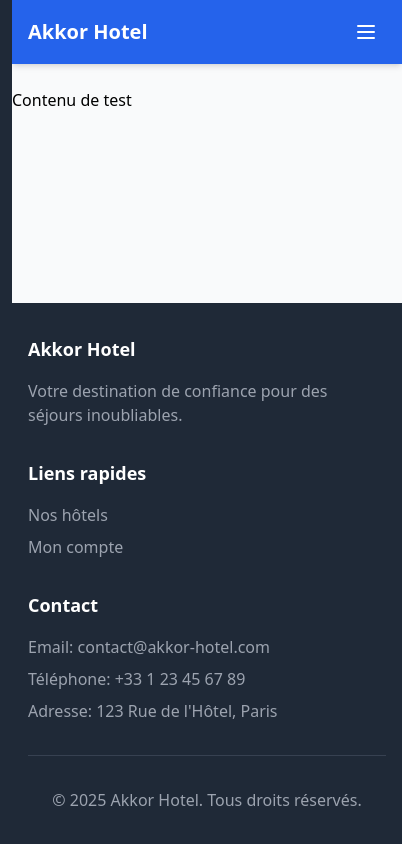
Layout Component › bascule correctement le menu mobile
Ouvrir le menu mobile
Click the button named "Toggle menu". click: (366, 32)
box: [346,12,386,52]
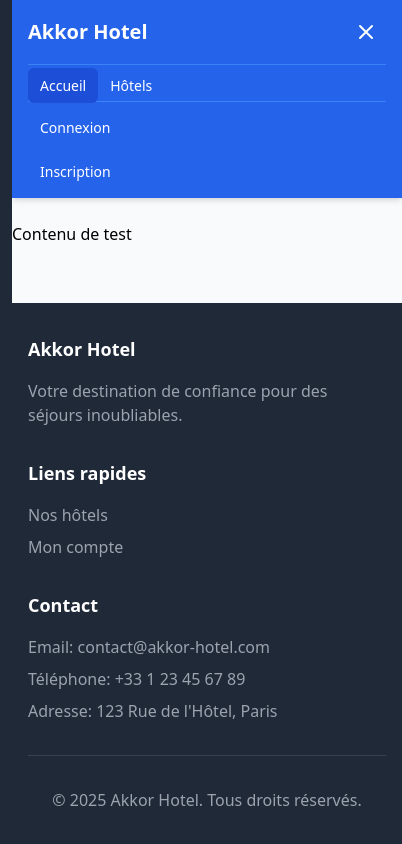
Check: the link "Accueil" is shown, box [28,68,98,103]
Check: the link "Hôtels" is shown, box [110,76,152,95]
Fermer le menu mobile
Click the button named "Toggle menu". click: (366, 32)
box: [346,12,386,52]
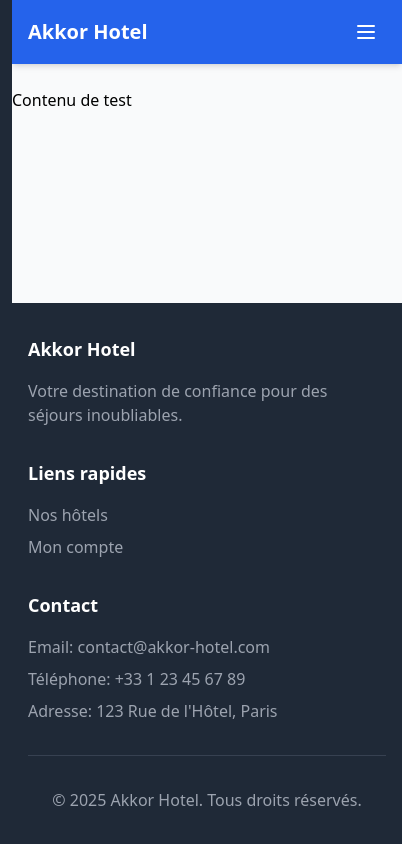
Check: the link "Accueil" is gone
